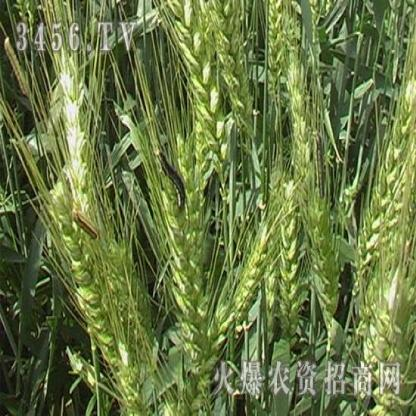armyworm: (157, 148, 187, 220), (2, 34, 28, 104), (70, 203, 103, 247)
